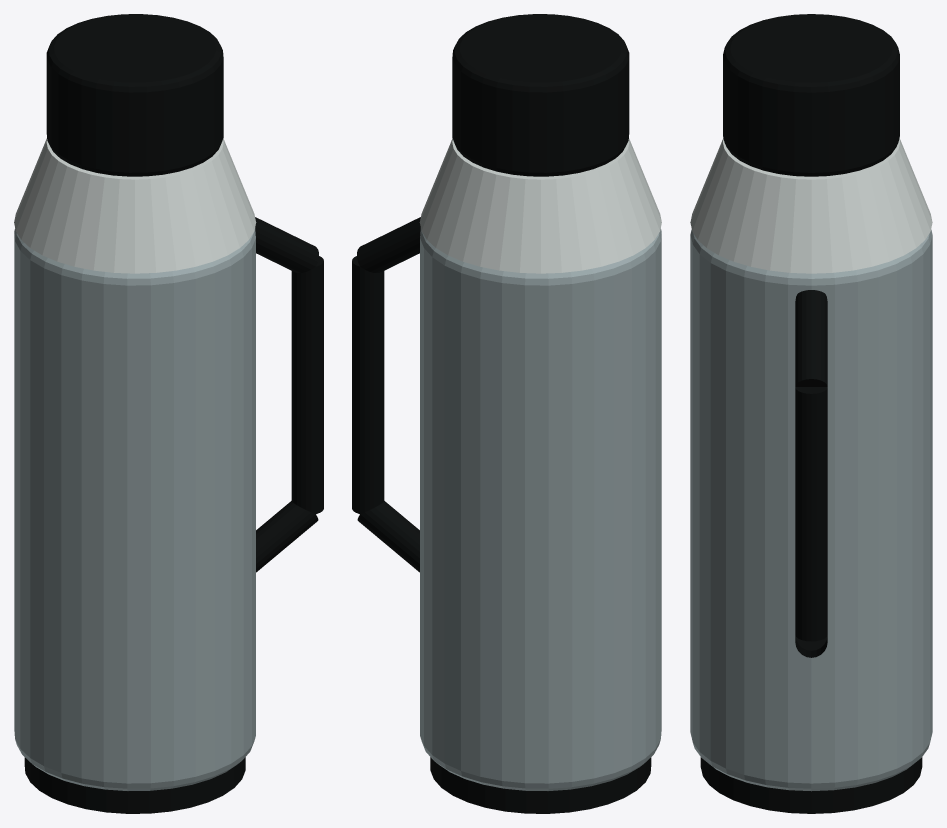
The model's file is Termo3D.fbx.
The picture shows the model from 3 angles, left to right: view 1: azimuth 30°, elevation 25°; view 2: azimuth 150°, elevation 25°; view 3: azimuth 270°, elevation 25°; orthographic projection.
Visible parts, largest first — view 1: Termo3D; view 2: Termo3D; view 3: Termo3D.
Boxes of the visible parts, <box> form: Termo3D: <box>14,14,323,813</box>; Termo3D: <box>352,14,661,813</box>; Termo3D: <box>690,14,932,813</box>.
Size of the model in its own units: 22.8 by 53.7 by 16.4.
